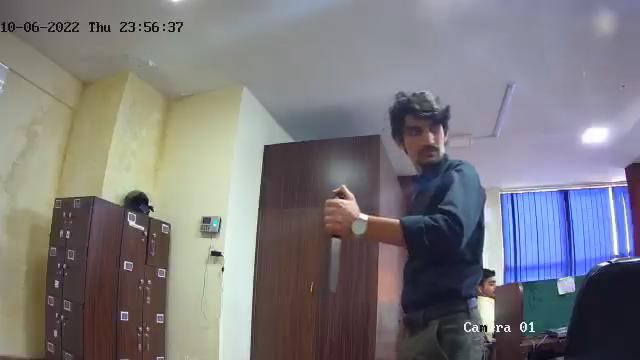knives: (318, 183, 357, 295)
